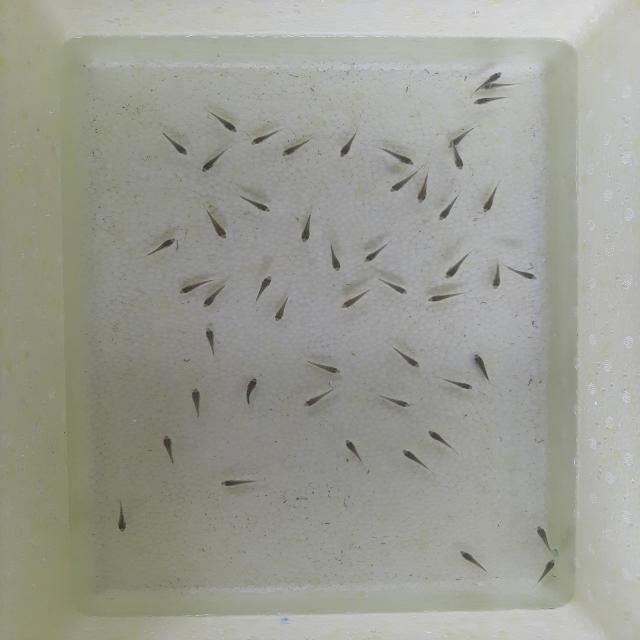fingerling: (299, 389, 339, 413), (371, 390, 418, 410), (203, 203, 228, 239), (337, 286, 372, 311), (424, 428, 459, 452), (390, 343, 422, 368), (199, 148, 228, 173), (145, 236, 179, 257), (241, 193, 275, 214), (442, 253, 469, 279), (437, 374, 476, 392), (461, 550, 490, 574), (307, 358, 343, 377), (417, 167, 434, 207), (448, 126, 476, 149), (359, 242, 388, 264), (163, 132, 189, 156), (473, 353, 493, 384), (178, 275, 208, 295), (212, 115, 240, 136), (215, 477, 260, 490), (200, 284, 222, 310), (280, 139, 310, 158), (392, 172, 419, 193), (400, 449, 428, 469), (450, 143, 469, 172), (188, 388, 206, 418), (116, 498, 130, 536), (439, 196, 461, 220), (243, 377, 260, 408), (275, 293, 292, 324), (425, 291, 472, 302), (387, 150, 419, 166), (296, 218, 313, 245), (246, 134, 276, 149), (340, 135, 359, 158), (330, 242, 345, 271), (480, 189, 498, 213), (256, 277, 274, 301), (475, 92, 511, 104), (534, 527, 553, 549), (380, 280, 408, 294), (538, 561, 555, 584), (504, 267, 536, 279), (344, 440, 362, 460), (205, 330, 219, 354), (491, 260, 501, 292), (164, 438, 177, 462), (484, 82, 521, 90), (482, 71, 501, 86)
